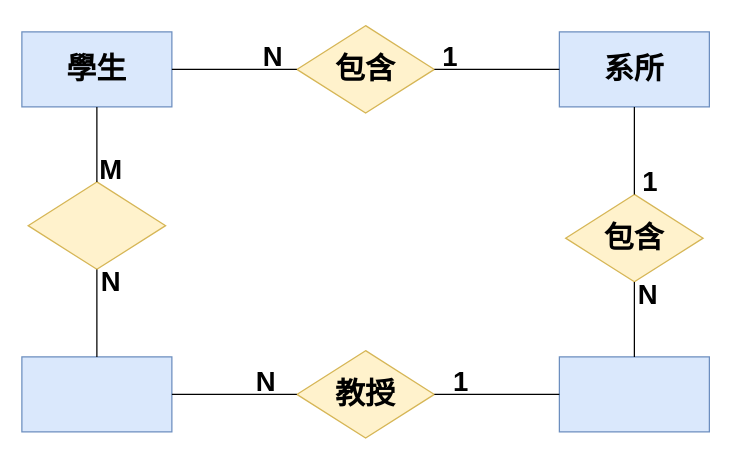
Some shapes in this 731 by 460 pixel diagram are drawn without their labels. Here are the shapes that lost their labels. From the top down, the centre of each, then its label:
At [96,225]: "選修".
At [96,394]: "課程".
At [633,394]: "老師".
